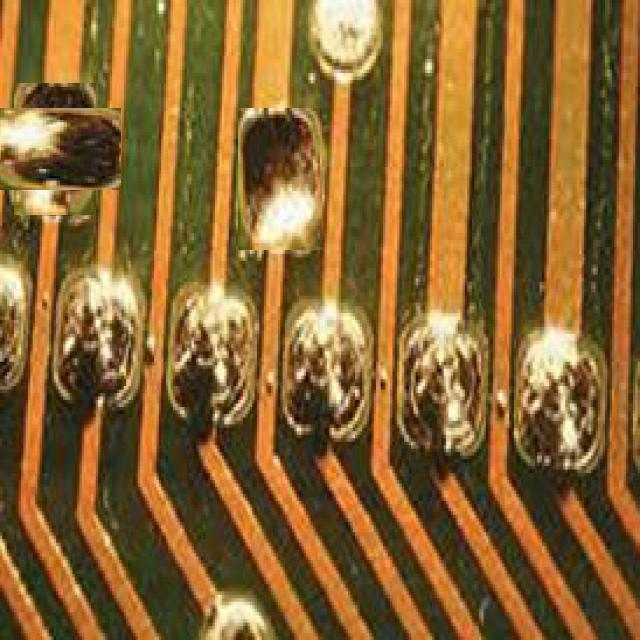slug: (238, 108, 322, 250), (2, 96, 108, 203)
